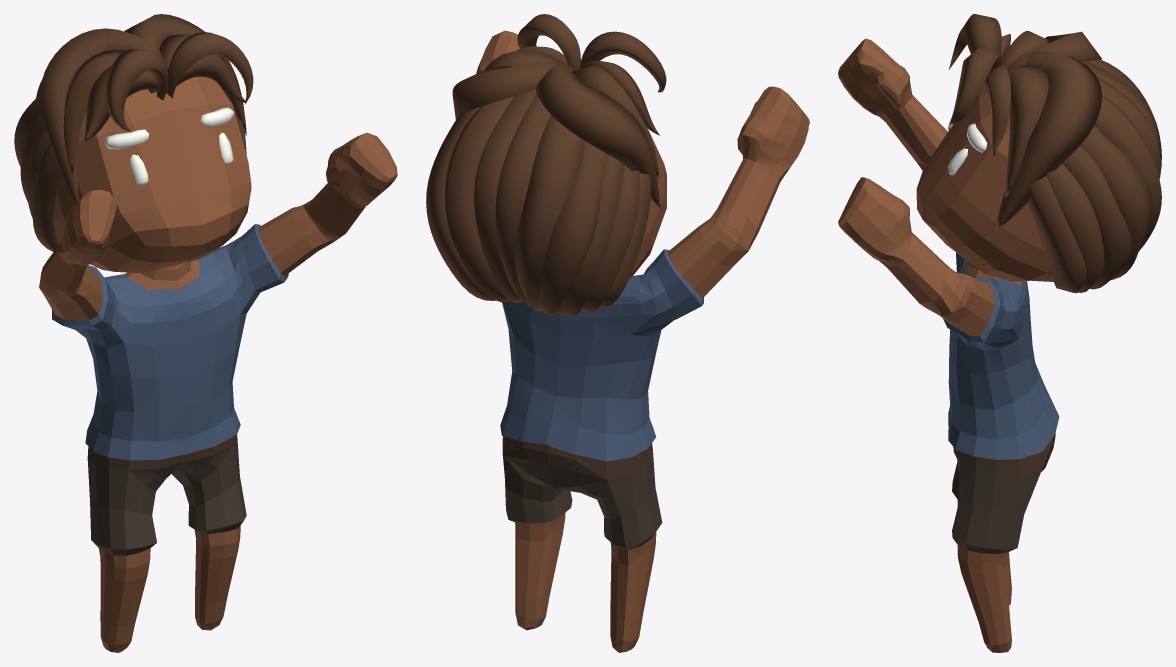
File: joie-homme.glb
The picture shows the model from 3 angles, left to right: view 1: azimuth 30°, elevation 25°; view 2: azimuth 150°, elevation 25°; view 3: azimuth 270°, elevation 25°; orthographic projection.
Visible parts, largest first — view 1: Cube004, Cube004_1, Cube004_5, Cube004_2, Cube004_4, Cube004_3; view 2: Cube004_5, Cube004_1, Cube004, Cube004_2, Cube004_3; view 3: Cube004_5, Cube004, Cube004_1, Cube004_2, Cube004_3, Cube004_4.
Boxes of the visible parts, x1,y1,x2,y2 form: Cube004: (39, 76, 397, 652); Cube004_1: (52, 224, 288, 460); Cube004_5: (14, 14, 253, 251); Cube004_2: (87, 438, 246, 555); Cube004_4: (104, 107, 234, 185); Cube004_3: (87, 434, 237, 469); Cube004_5: (426, 14, 666, 316); Cube004_1: (500, 249, 703, 461); Cube004: (476, 30, 809, 652); Cube004_2: (503, 450, 662, 549); Cube004_3: (502, 436, 652, 480); Cube004_5: (949, 14, 1161, 293); Cube004: (838, 38, 1054, 652); Cube004_1: (943, 252, 1059, 459); Cube004_2: (952, 450, 1052, 553); Cube004_3: (953, 433, 1055, 473); Cube004_4: (948, 123, 987, 175).
Size of the model in its own units: 0.9814 by 1.76 by 0.8658.
